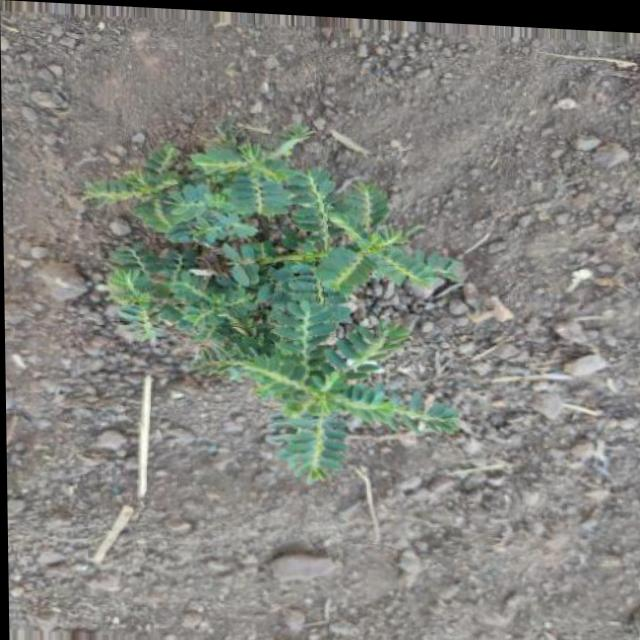weed: (103, 127, 493, 476)
